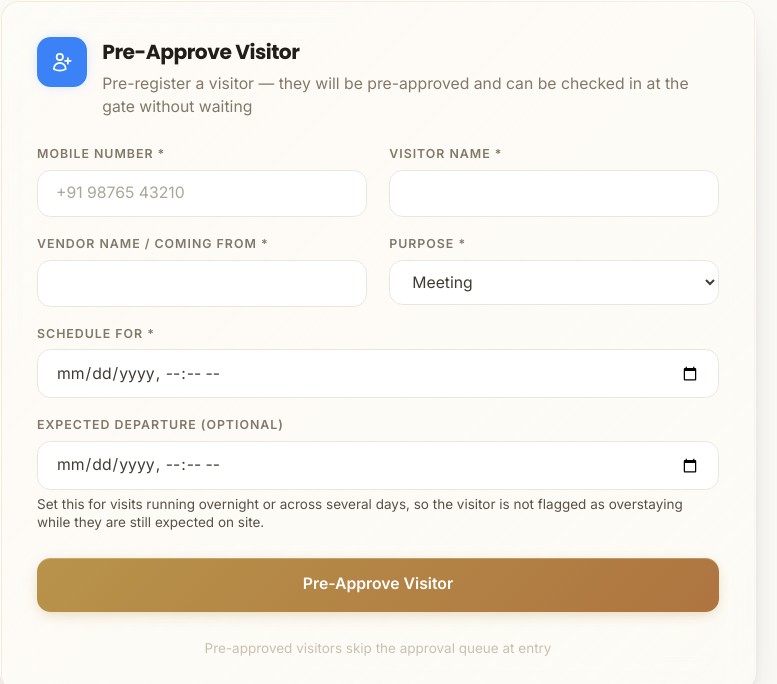
Scenario: PreApproveForm errors › shows warning and blocks submission when phone has an active visit
In the field with placeholder "+91 98765 43210": (202, 193) [37,170,367,217], type "9876543210"
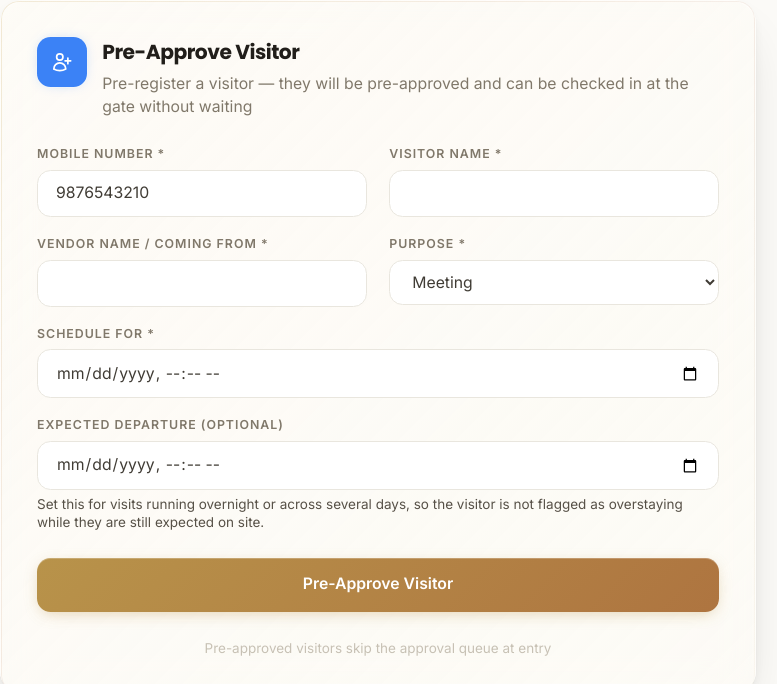
In the field below "Visitor Name *": (554, 193) [389,170,719,217], type "Test Visitor"
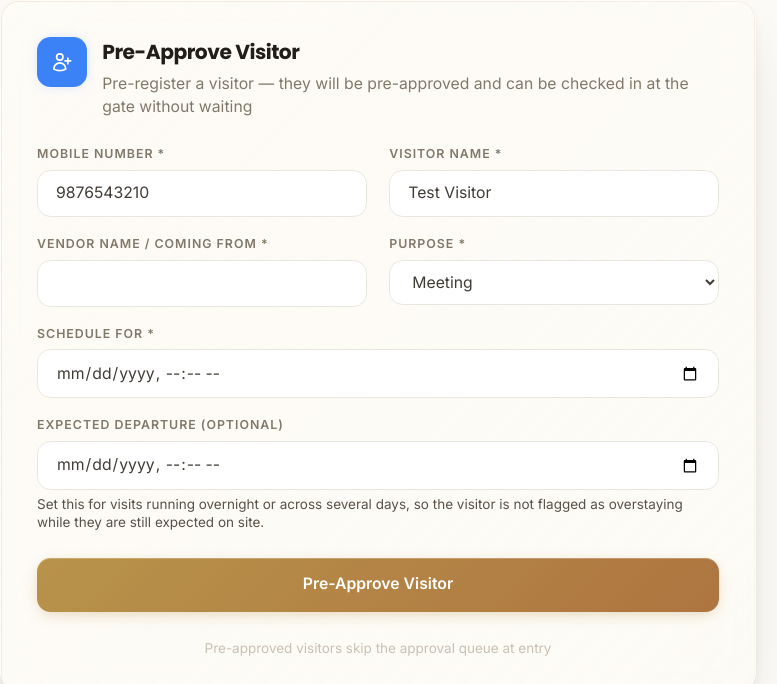
In the field below "Vendor Name / Coming from *": (202, 283) [37,260,367,306], type "Test Corp"
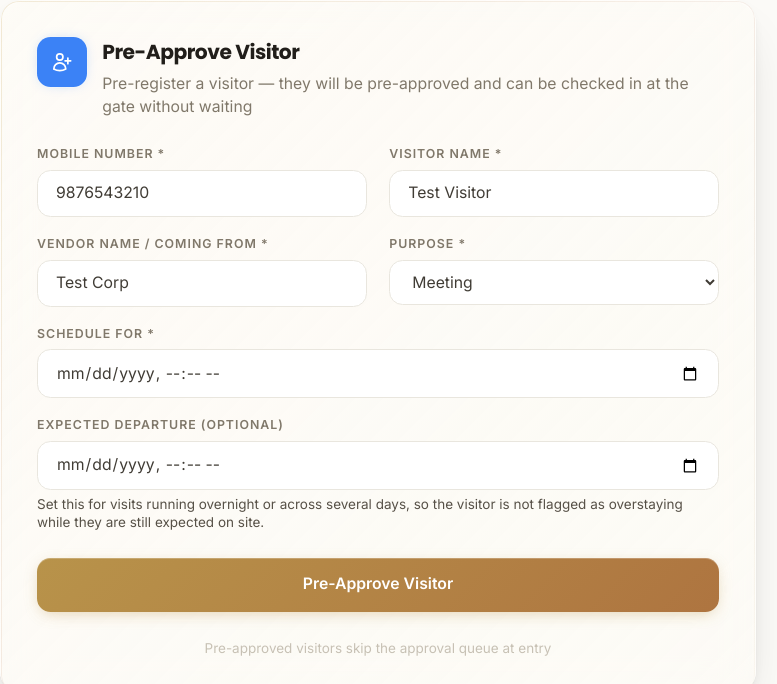
In the field labelled "Schedule for *": (378, 374) [37,349,719,398], type "2026-08-05T10:00"
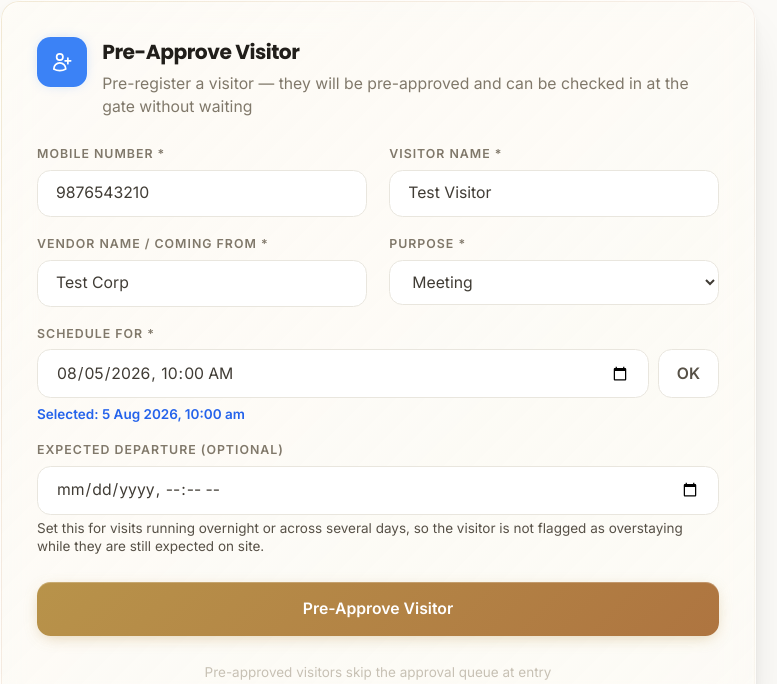
Click the button "Pre-Approve Visitor": click(378, 609) [37,582,719,636]
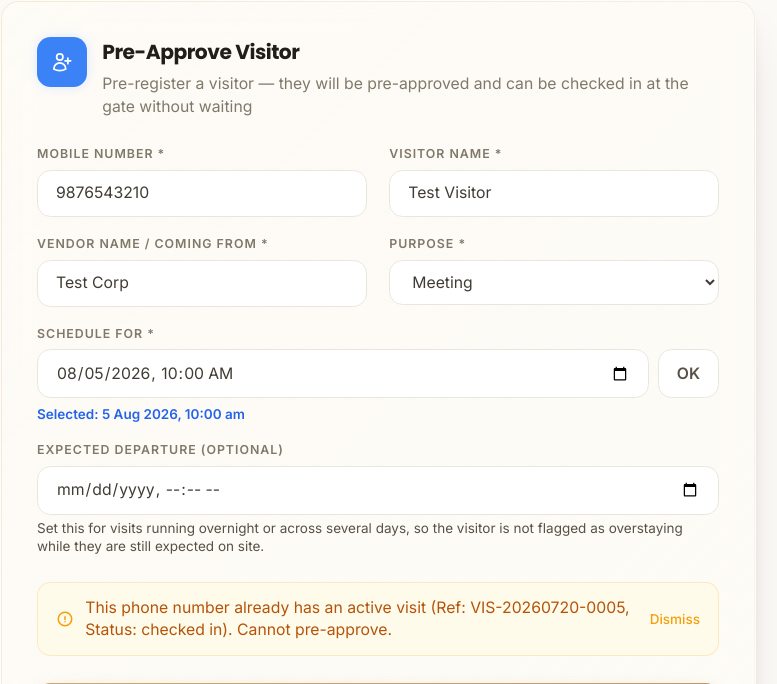
Check: the text "VIS-20260720-0005" is shown, box [85,598,630,639]
